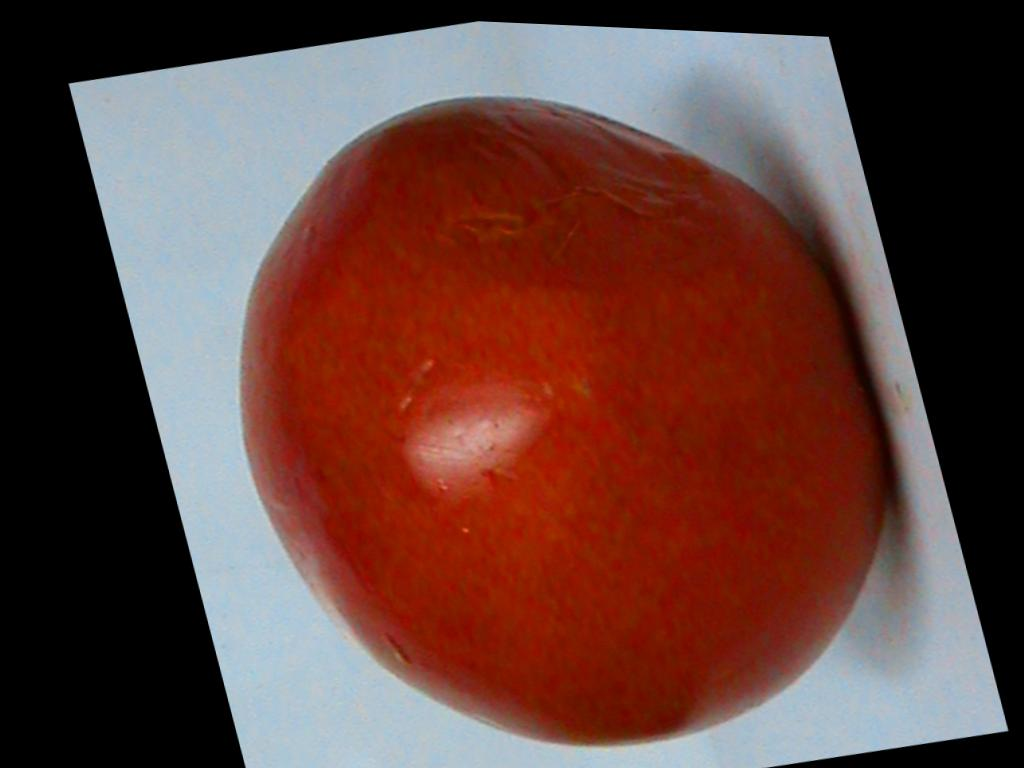bruise_discoloration: (383, 91, 724, 302)
tomato: (239, 97, 881, 744)
